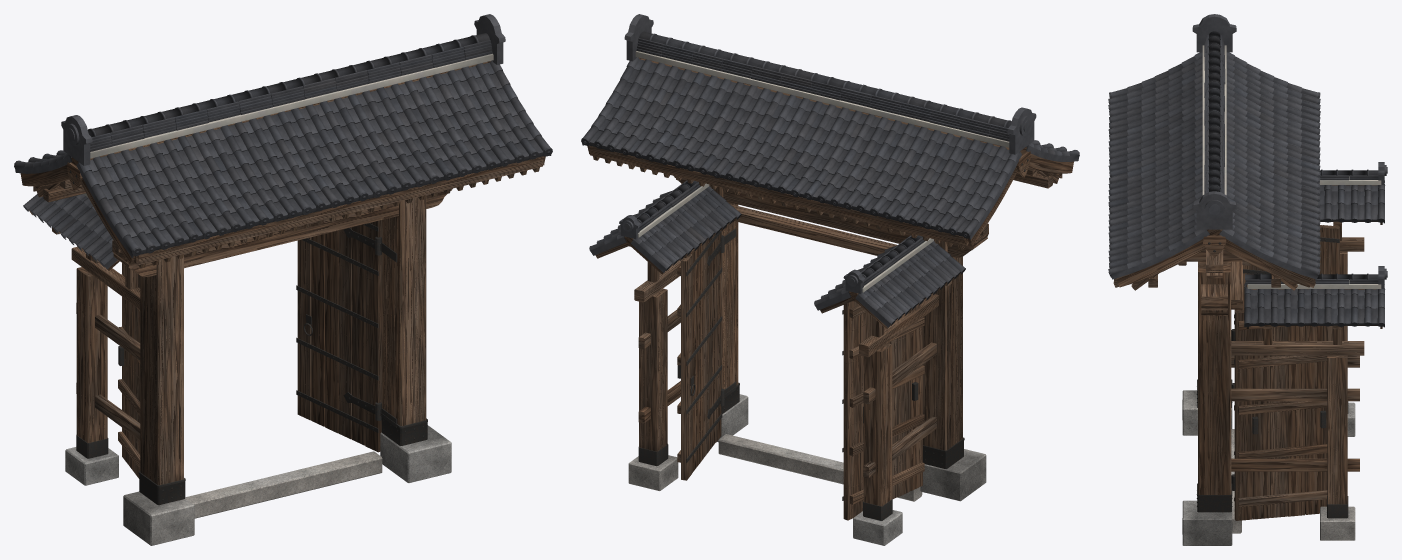
Rendered from gate_v2.glb.
The picture shows the model from 3 angles, left to right: view 1: azimuth 30°, elevation 25°; view 2: azimuth 150°, elevation 25°; view 3: azimuth 270°, elevation 25°; orthographic projection. The views are drawn at different scales.
Parts seen in each view (by area): view 1: gate_tile_ibushi, gate_wood_timber#frame, gate_wood_timber#door, gate_stone_granite, gate_wood_timber#weather, gate_iron_black, gate_plaster_white, gate_tile_ibushi#disc, gate_wood_timber#edge, gate_wood_timber#end; view 2: gate_tile_ibushi, gate_wood_timber#frame, gate_wood_timber#door, gate_stone_granite, gate_iron_black, gate_plaster_white, gate_tile_ibushi#disc, gate_wood_timber#edge, gate_wood_timber#end; view 3: gate_tile_ibushi, gate_wood_timber#frame, gate_wood_timber#door, gate_stone_granite, gate_iron_black, gate_plaster_white, gate_tile_ibushi#disc, gate_wood_timber#edge.
Boxes of the visible parts, bbox=[...] form: gate_tile_ibushi: bbox=[15, 14, 551, 269]; gate_wood_timber#frame: bbox=[20, 61, 545, 484]; gate_wood_timber#door: bbox=[122, 220, 382, 478]; gate_stone_granite: bbox=[65, 425, 451, 545]; gate_wood_timber#weather: bbox=[159, 195, 425, 484]; gate_iron_black: bbox=[69, 170, 427, 505]; gate_plaster_white: bbox=[83, 53, 493, 197]; gate_tile_ibushi#disc: bbox=[14, 147, 552, 267]; gate_wood_timber#edge: bbox=[157, 195, 426, 485]; gate_wood_timber#end: bbox=[129, 167, 539, 268]; gate_tile_ibushi: bbox=[582, 14, 1078, 327]; gate_wood_timber#frame: bbox=[587, 57, 1073, 506]; gate_wood_timber#door: bbox=[681, 232, 922, 520]; gate_stone_granite: bbox=[628, 394, 986, 545]; gate_iron_black: bbox=[638, 159, 1028, 520]; gate_plaster_white: bbox=[635, 51, 1009, 292]; gate_tile_ibushi#disc: bbox=[581, 137, 1079, 325]; gate_wood_timber#edge: bbox=[720, 187, 946, 450]; gate_wood_timber#end: bbox=[593, 156, 962, 249]; gate_tile_ibushi: bbox=[1109, 14, 1387, 327]; gate_wood_timber#frame: bbox=[1113, 221, 1382, 507]; gate_wood_timber#door: bbox=[1234, 225, 1339, 520]; gate_stone_granite: bbox=[1182, 390, 1355, 545]; gate_iron_black: bbox=[1196, 237, 1348, 518]; gate_plaster_white: bbox=[1202, 45, 1381, 288]; gate_tile_ibushi#disc: bbox=[1108, 92, 1385, 326]; gate_wood_timber#edge: bbox=[1198, 272, 1231, 494].
Bounding box in the file's own units: 8.07 × 7.93 × 5.22.
Materials: 6 (6 with a texture image).
